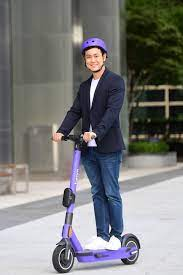kick_wheel: (52, 245, 73, 272)
